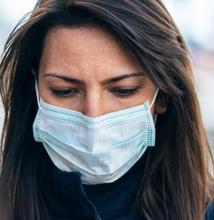OK: (39, 51, 156, 187)
